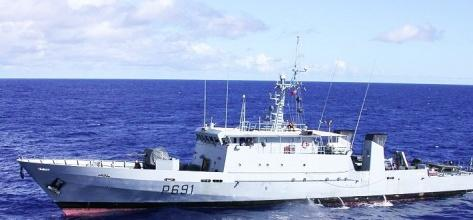warship: (12, 93, 473, 213)
